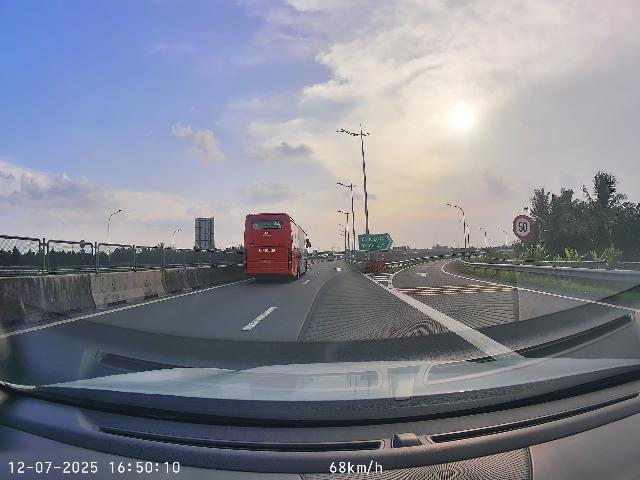127-toc-do-toi-da-50: (512, 214, 534, 240)
